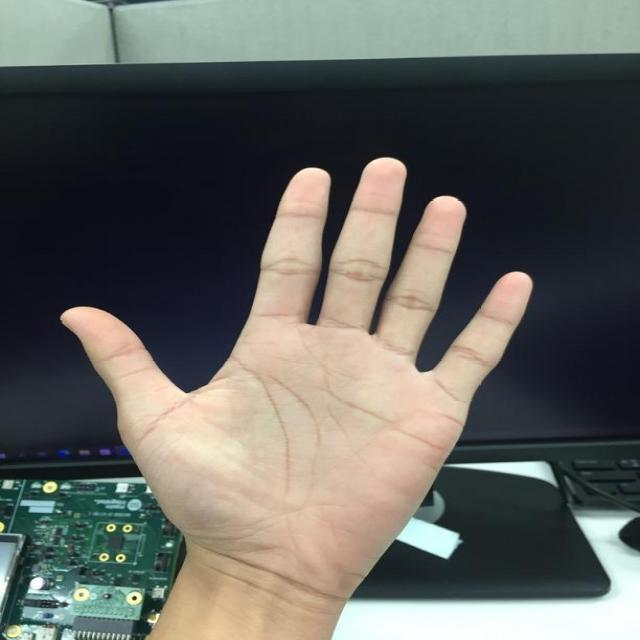hand: (56, 155, 534, 582)
